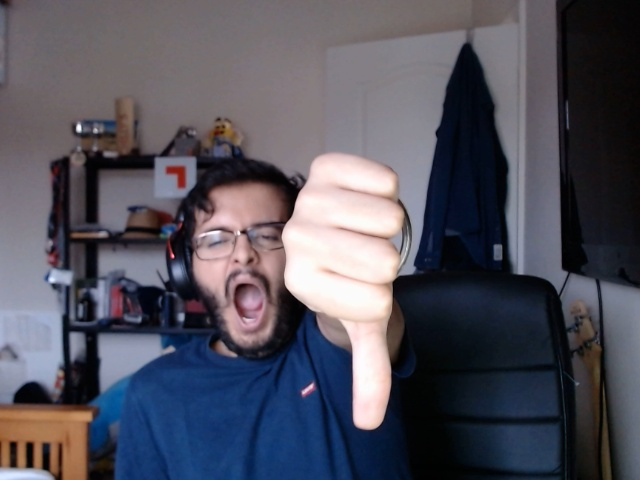Thumbs down: (278, 143, 408, 437)
